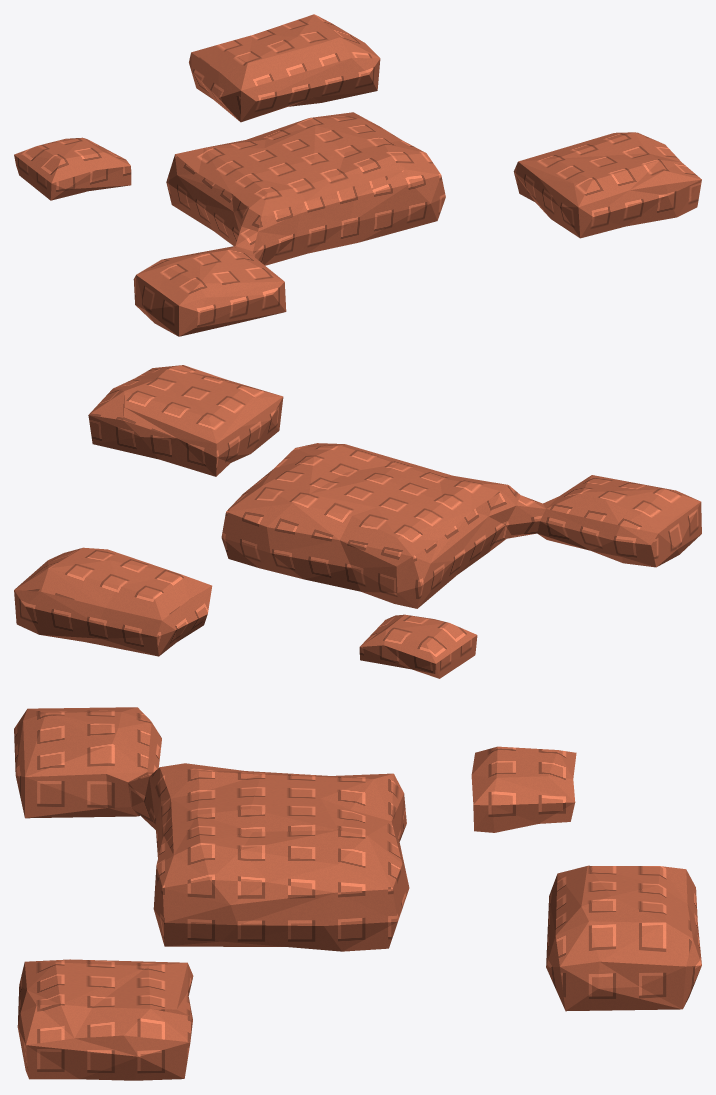
The model's file is DesertFlatStones.glb.
The picture shows the model from 3 angles, top to bottom: view 1: azimuth 30°, elevation 25°; view 2: azimuth 150°, elevation 25°; view 3: azimuth 270°, elevation 25°; orthographic projection. The views are drawn at different scales.
Visible parts, largest first — view 1: DesertFlatStones_Rock; view 2: DesertFlatStones_Rock; view 3: DesertFlatStones_Rock.
Part boxes in pixels (x1,y1,x2,y2): DesertFlatStones_Rock: (14, 14, 701, 336); DesertFlatStones_Rock: (14, 365, 701, 678); DesertFlatStones_Rock: (14, 707, 701, 1080).
Bounding box in the file's own units: 16.14 × 2.04 × 13.72.
1 material, 1 textured.
